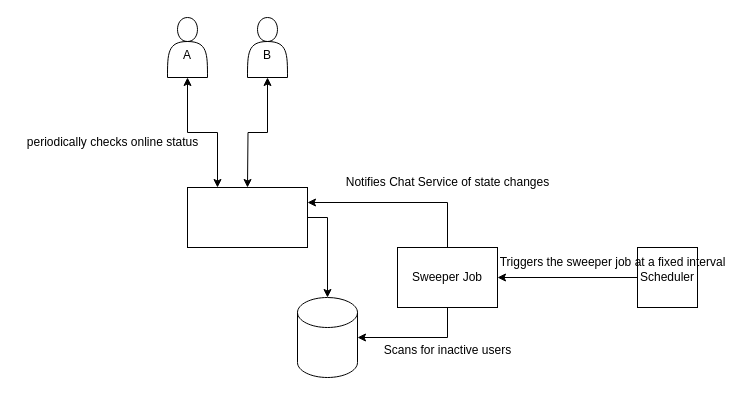
This 754x395 diagram has some shape labels left out. The centre of each missing label's shape, as x and y in pixels:
Chat Service: [247,217]
Online State Storage: [327,337]
